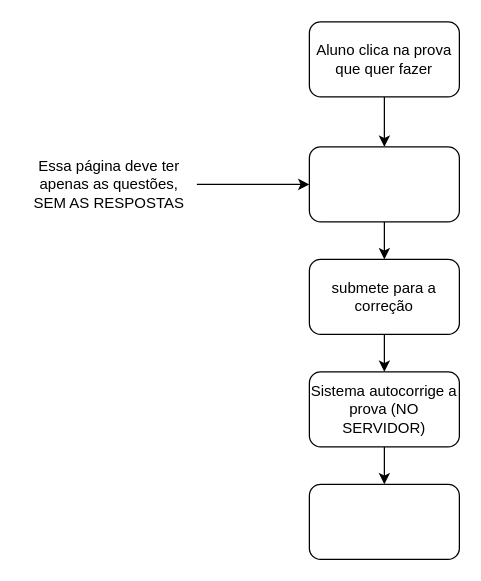
Some shapes in this 481 by 581 pixel diagram are drawn without their labels. The shapes that lost their labels are listed below. From the top down, each one's centre as x and y in pixels, then its label:
(x=383, y=184): entra na página de realização de provas
(x=383, y=521): Envia para a página mostrando quais questões o aluno acertou e errou
